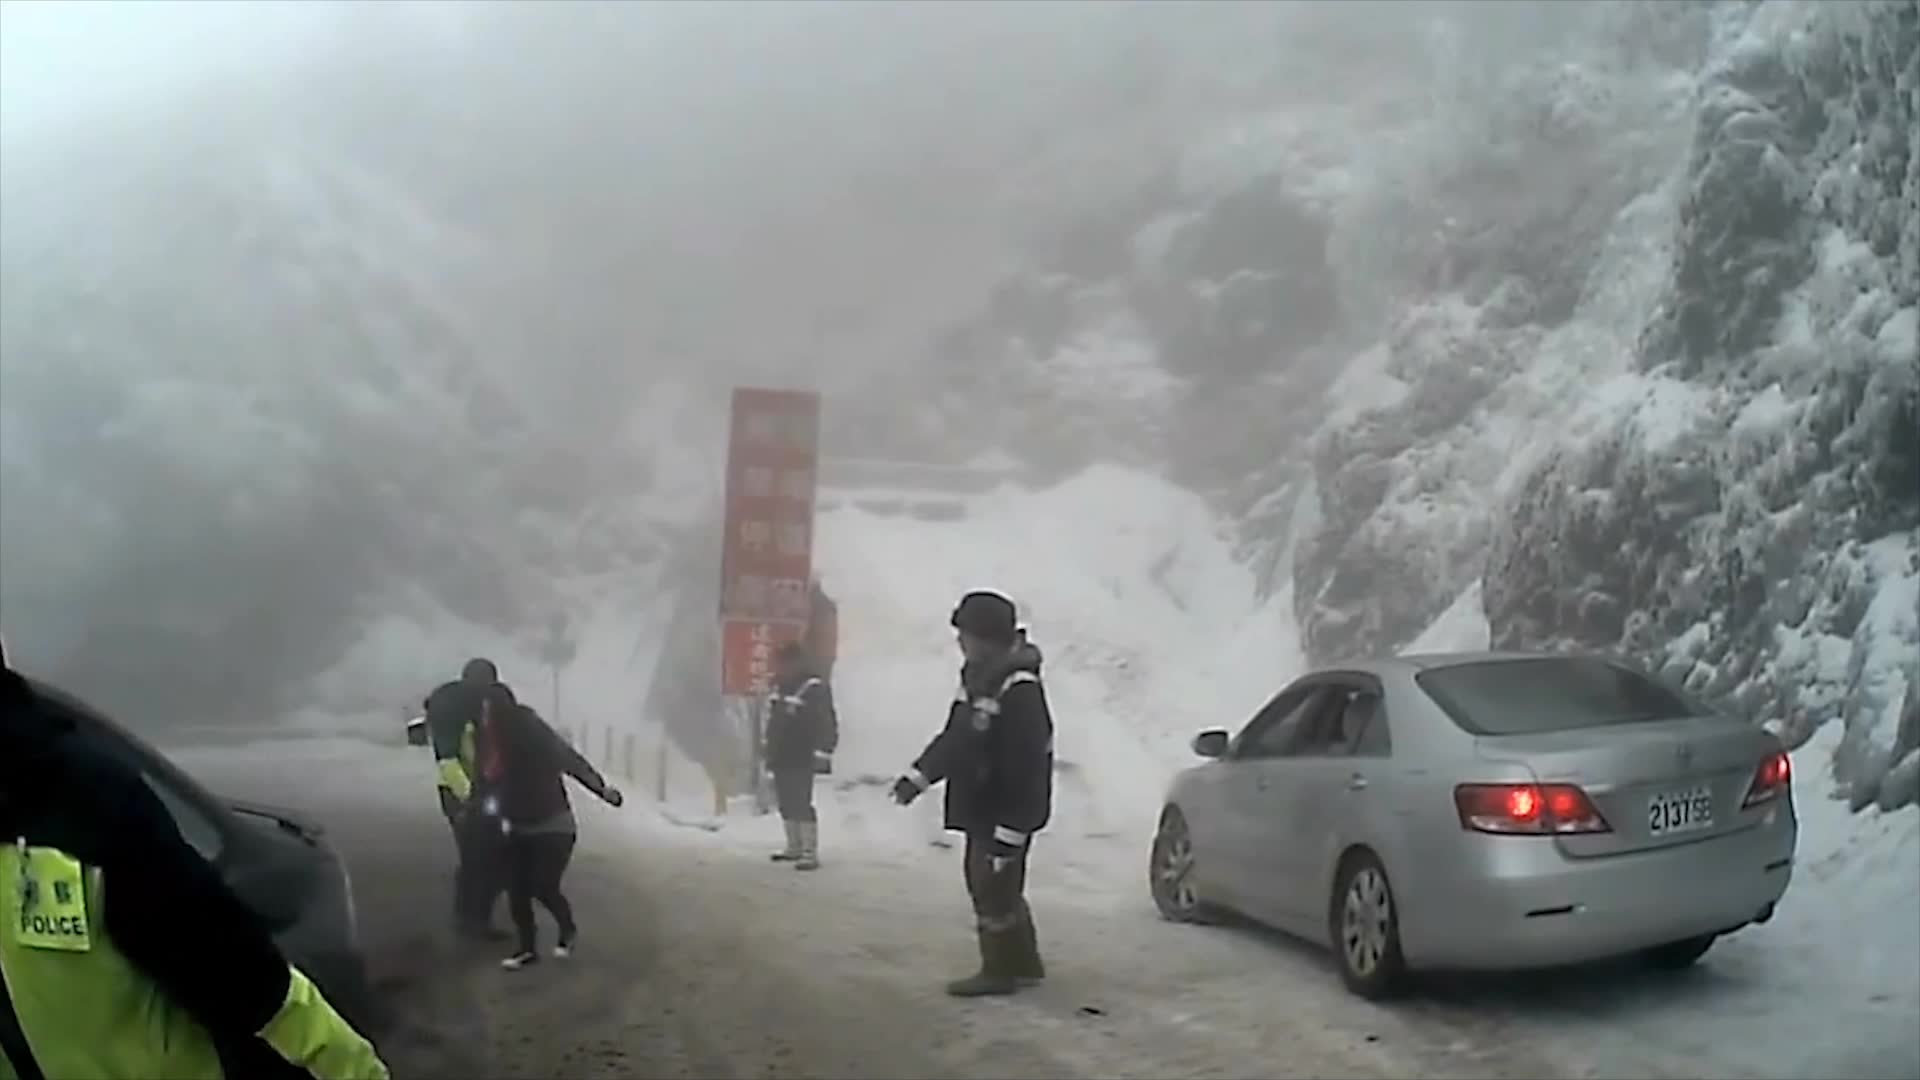pedestrian: (1, 573, 397, 1079), (894, 586, 1060, 1002), (450, 681, 626, 971), (764, 635, 839, 874), (780, 565, 842, 744)
vehicle: (1143, 649, 1797, 1001), (0, 667, 376, 1079)
